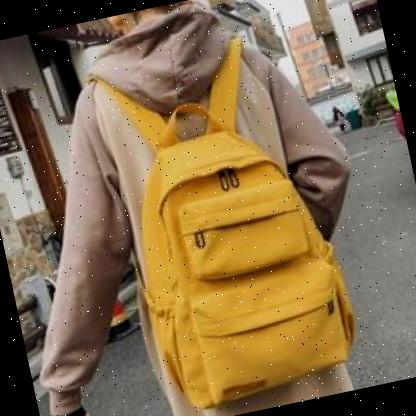bag: (89, 72, 388, 416)
